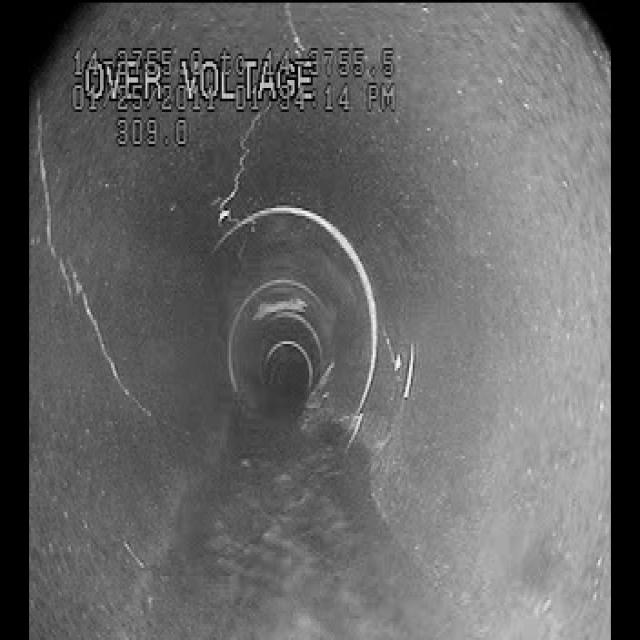Crack: (35, 164, 129, 398)
